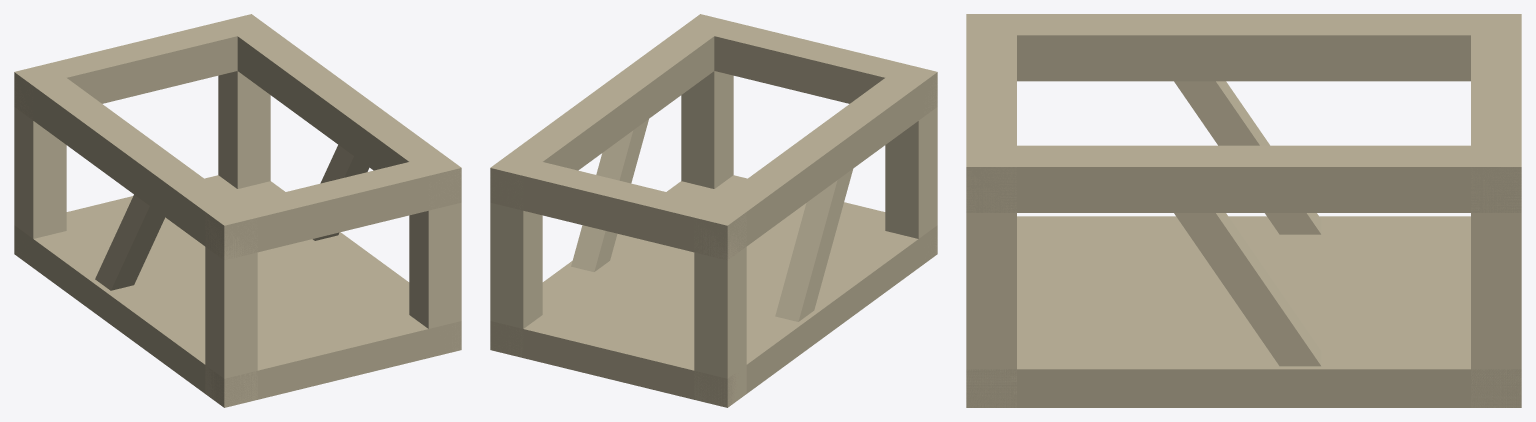
Rendered from gantry_hull_light.glb.
3 views of the same model, side by side, from view 1: azimuth 30°, elevation 25°; view 2: azimuth 150°, elevation 25°; view 3: azimuth 270°, elevation 25° (orthographic). The views are drawn at different scales.
Visible parts, largest first — view 1: gantry_hull_light; view 2: gantry_hull_light; view 3: gantry_hull_light.
Boxes of the visible parts, bbox=[...] form: gantry_hull_light: bbox=[14, 14, 461, 407]; gantry_hull_light: bbox=[490, 14, 937, 407]; gantry_hull_light: bbox=[966, 14, 1521, 407].
Size of the model in its own units: 3 by 2.2 by 4.6.
